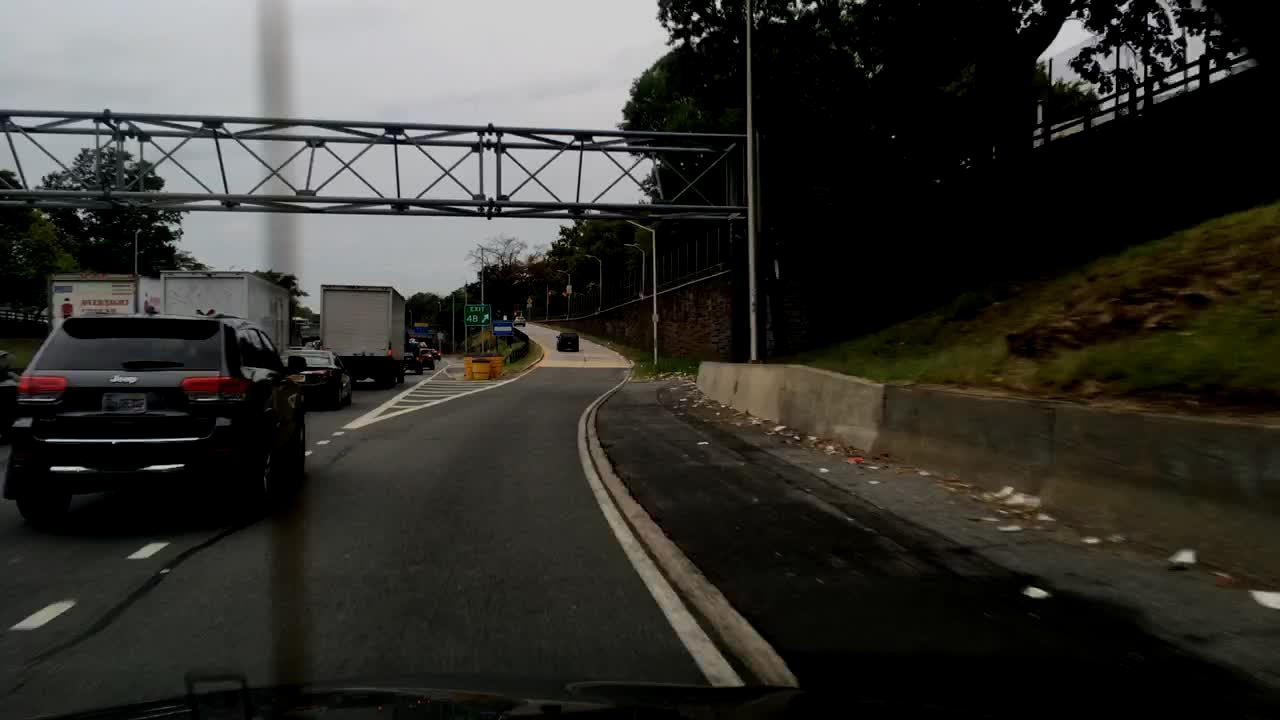jeep: (103, 373, 147, 390)
